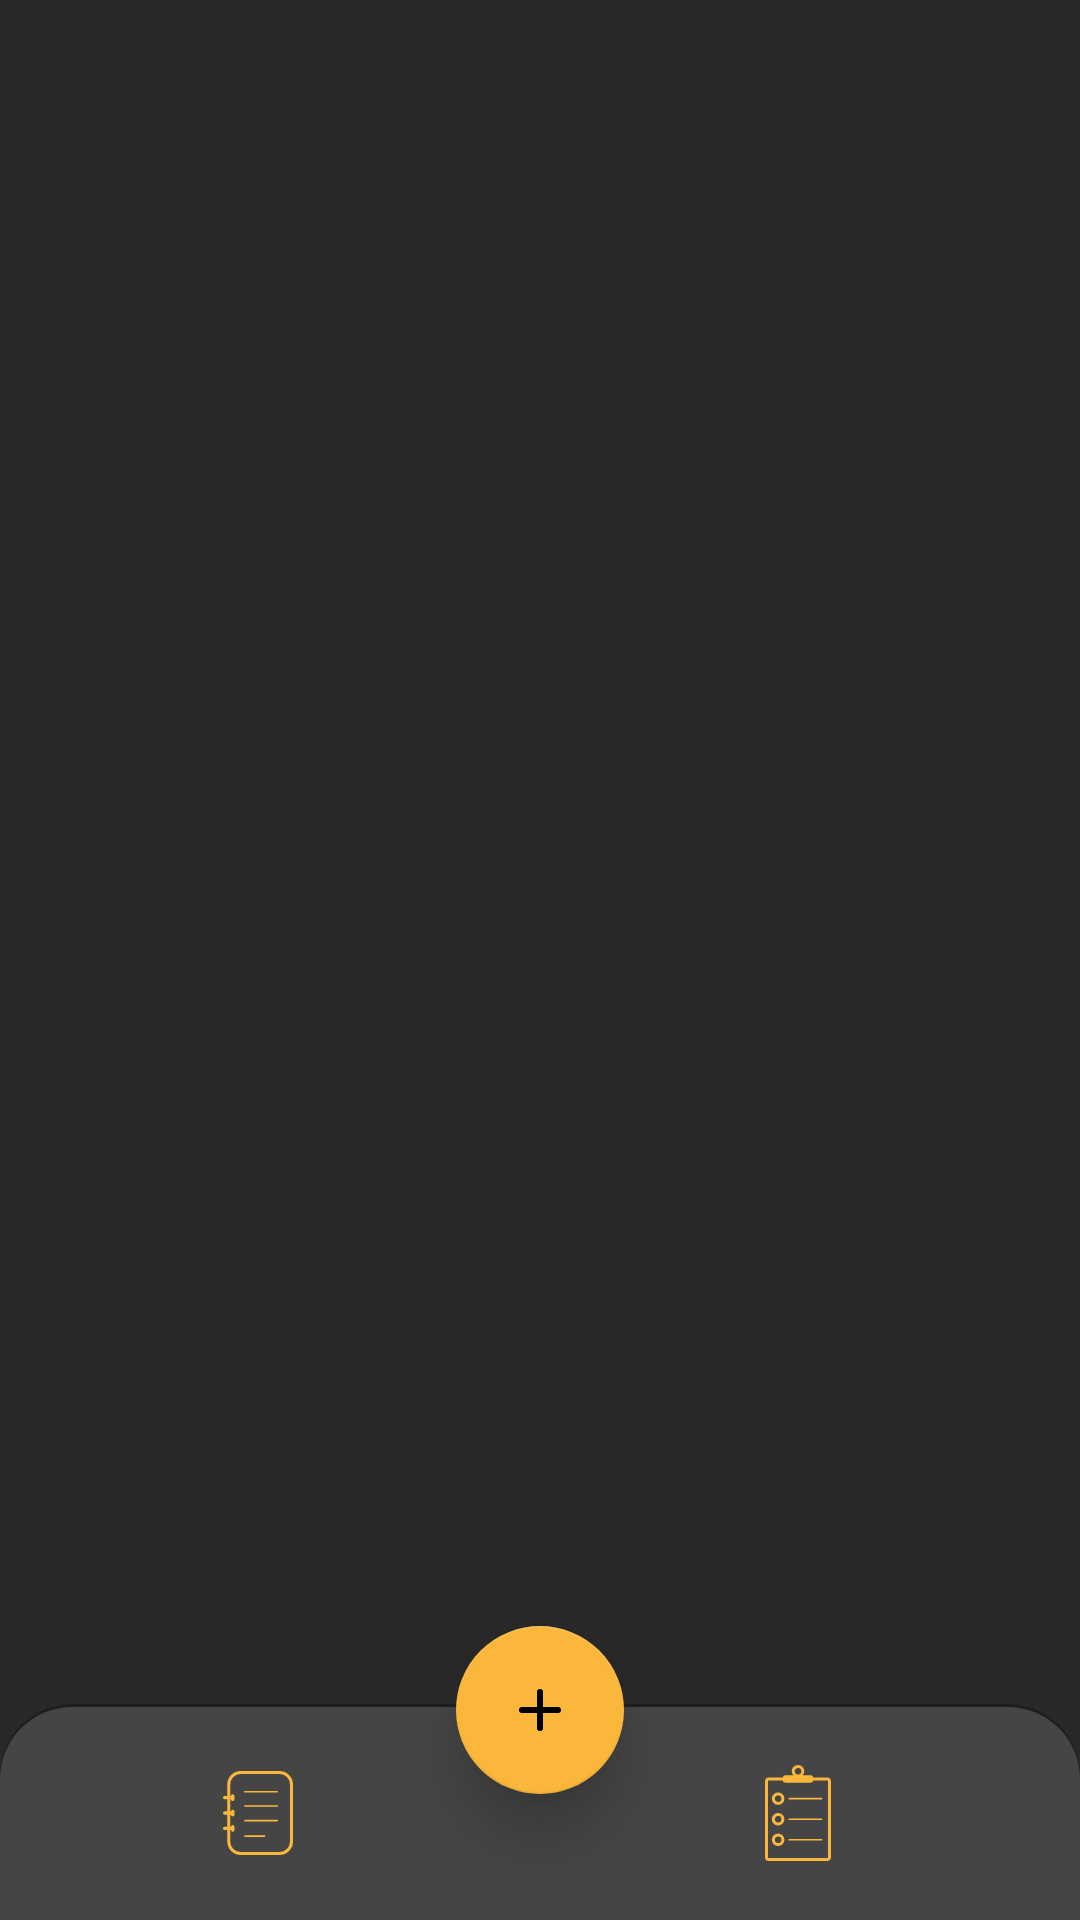

Where icons sit on this 1080×1920 app screen, as [left=x1, top=y1, right=x2, bottom=y2]:
Add note button: [left=456, top=1626, right=624, bottom=1794]
